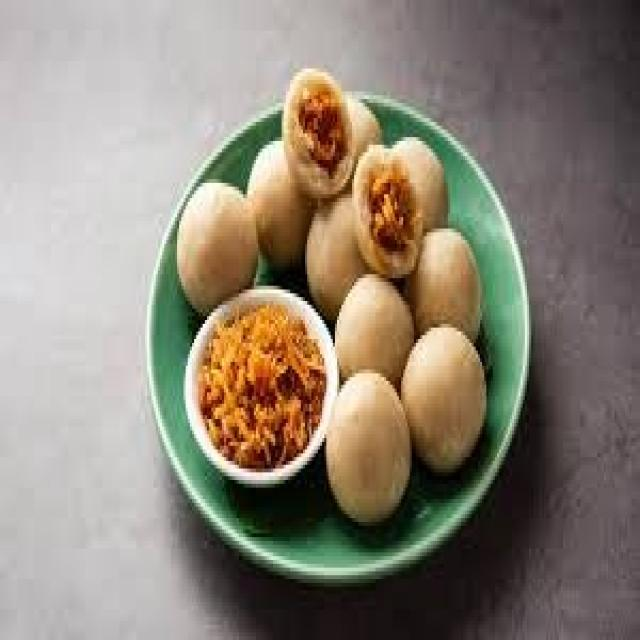poorna kolukattai: (300, 44, 505, 512)
